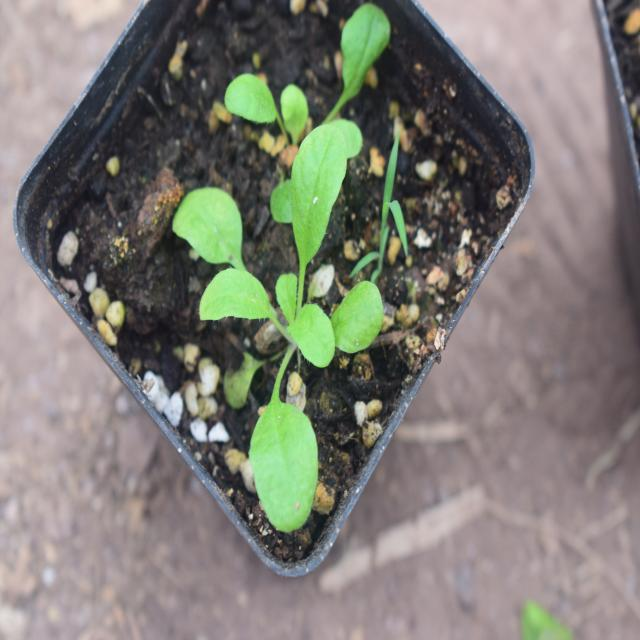Shepherd_Purse: (172, 125, 374, 527)
